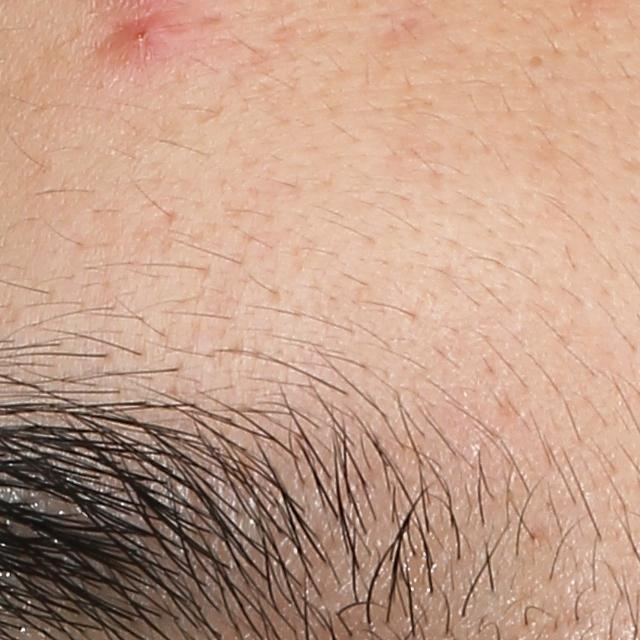comedo: (526, 51, 547, 72)
